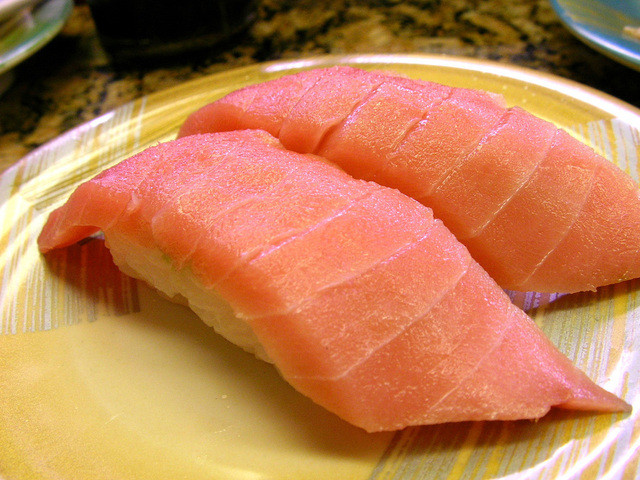medium_fatty_tuna: (36, 128, 633, 441)
